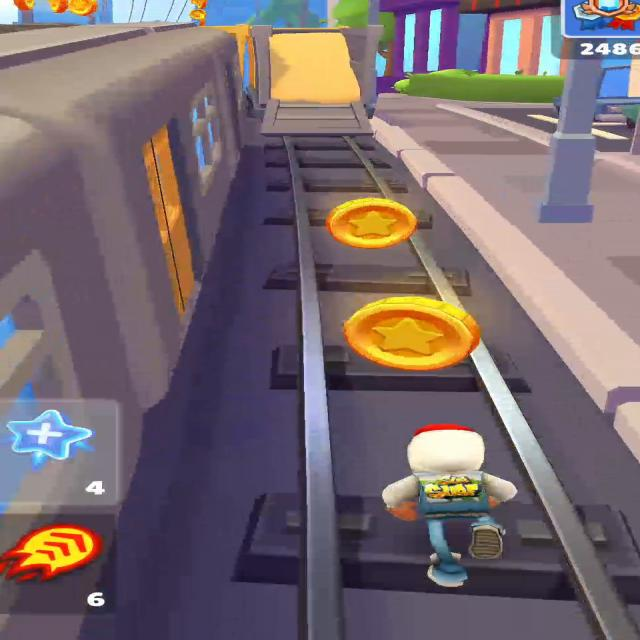climber: (263, 32, 371, 136)
train: (0, 23, 244, 536)
